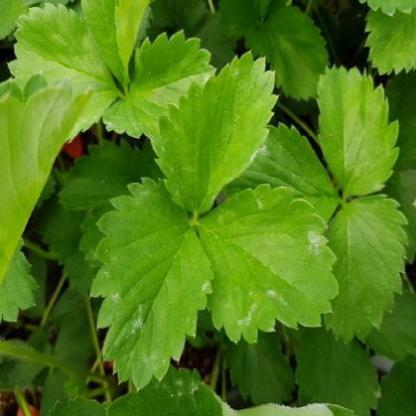Strawberry_Powdery_Mildew_Leaf: (90, 176, 214, 392), (198, 183, 340, 344), (152, 48, 280, 218), (100, 28, 218, 143)
